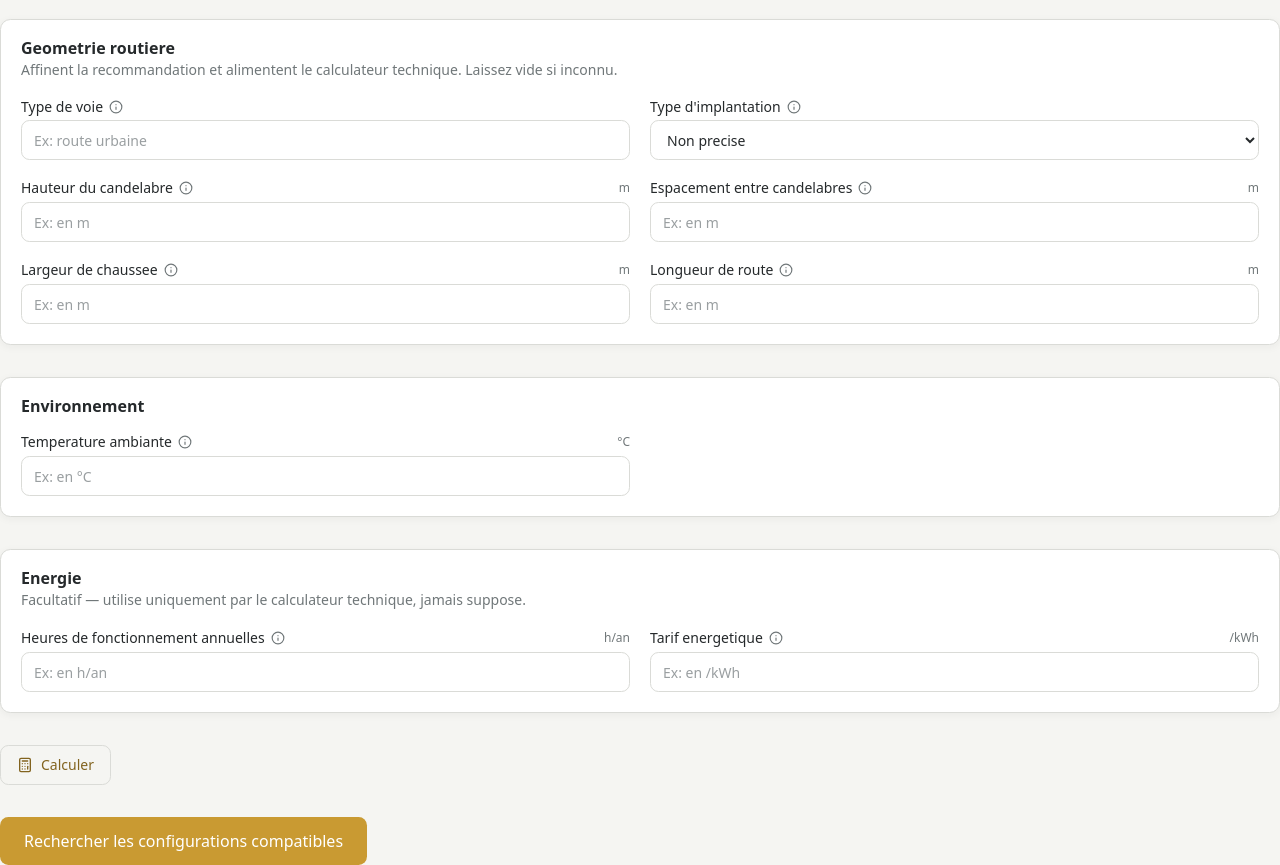
Test case: NewCalculationPage › affiche des erreurs de validation en francais si le formulaire est vide
(page scrolled)
Click the button "Rechercher les configurations compatibles" at (184, 841), box 0,817 -> 367,864
(page scrolled)
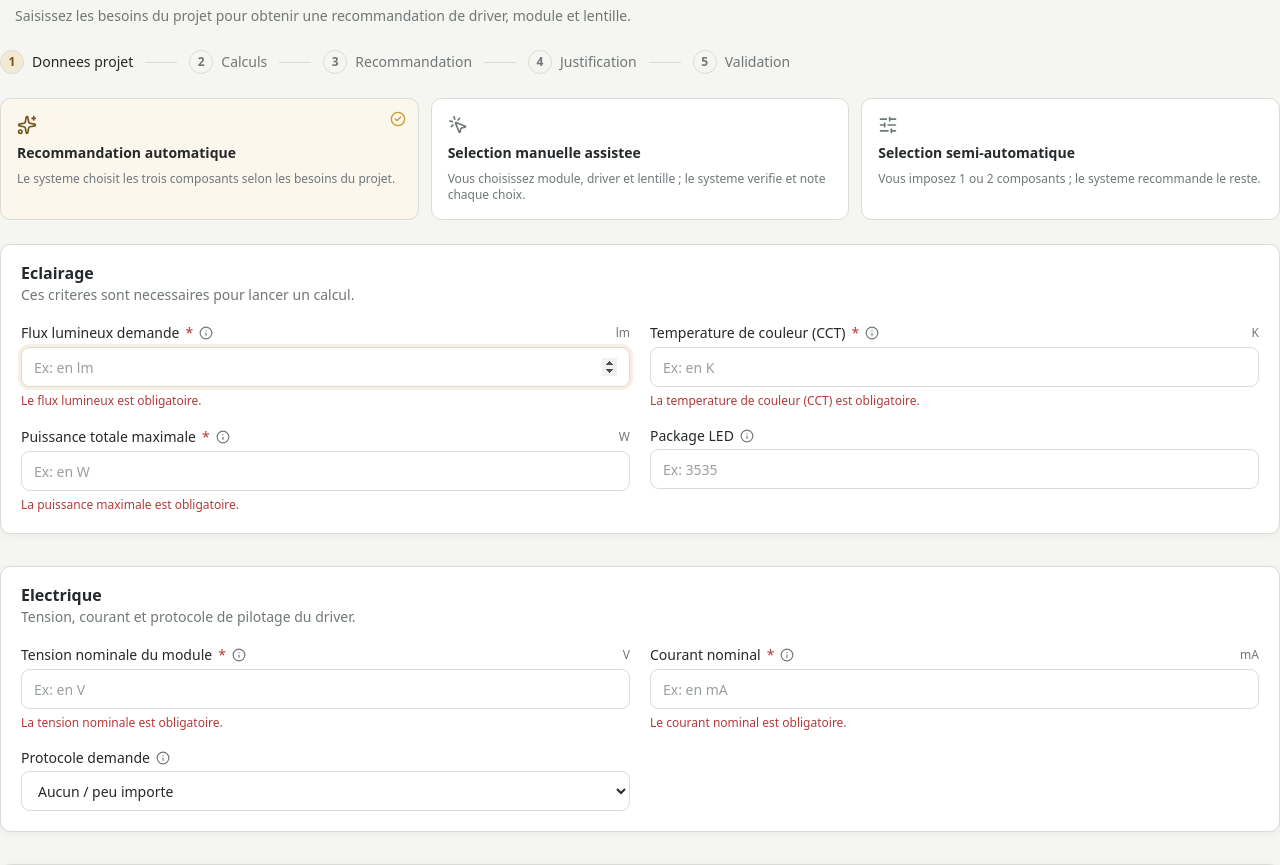
Expected: the text "Le flux lumineux est obligatoire." is shown, 21,392 -> 202,409
